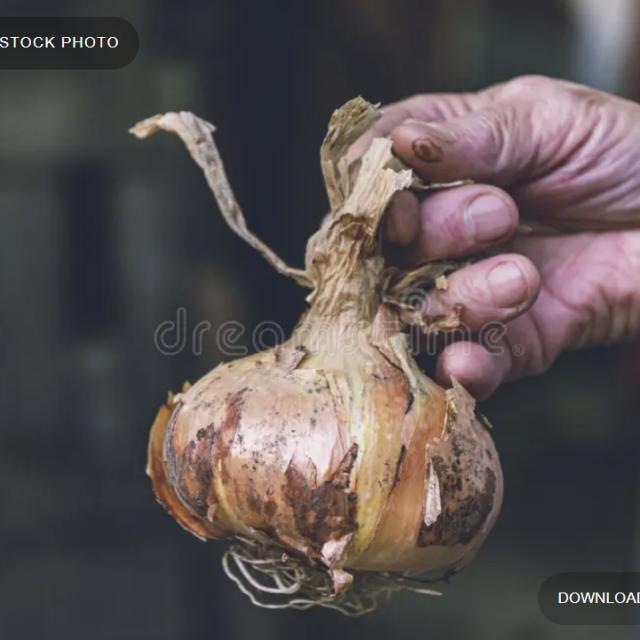mechanical_damage: (153, 98, 484, 590)
